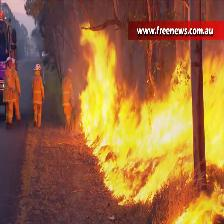fire: (79, 21, 191, 205), (202, 43, 224, 172), (171, 178, 224, 223)
